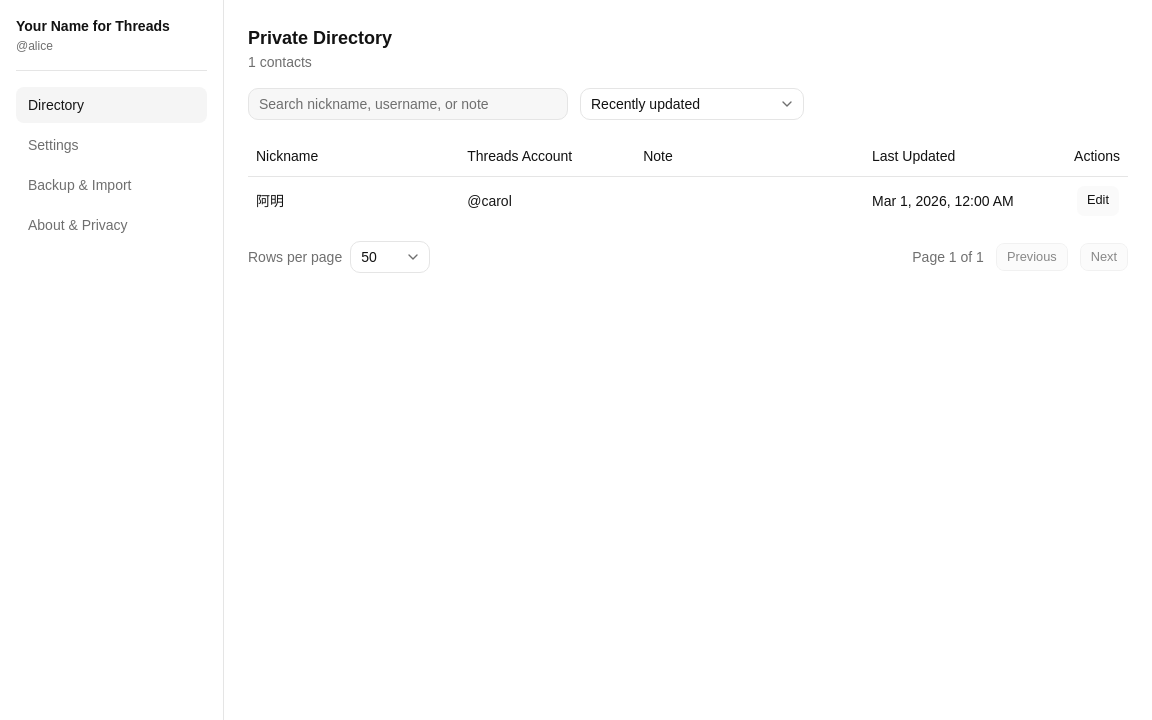
Test: the Dashboard › the contact editor, once it is open
Click the button "Edit" at coordinates (1098, 200), box [1076,184,1120,216]
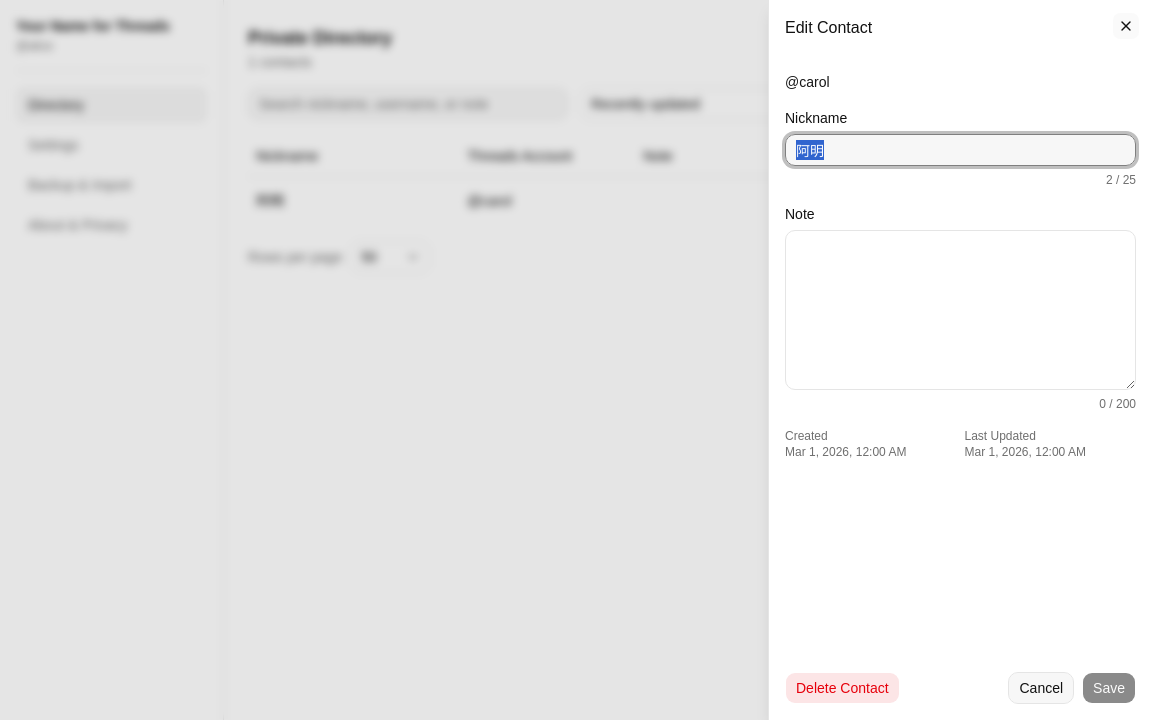
Expected: the dialog is shown, [768,0,1151,719]
